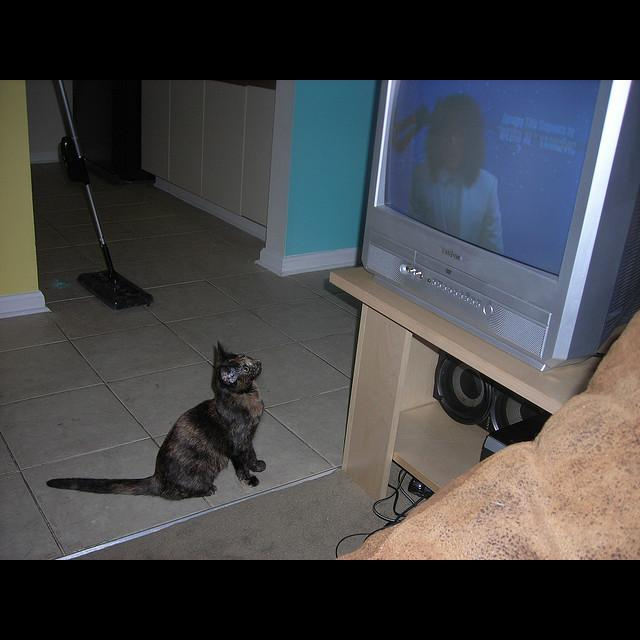Flat-Panel-TV: (354, 80, 639, 370)
